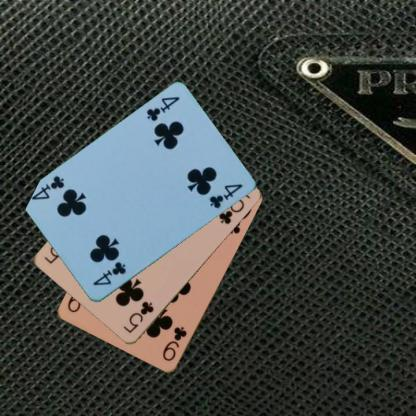4c: (144, 94, 182, 123), (90, 258, 127, 287)
5c: (120, 299, 156, 335)
9c: (160, 324, 188, 363)
